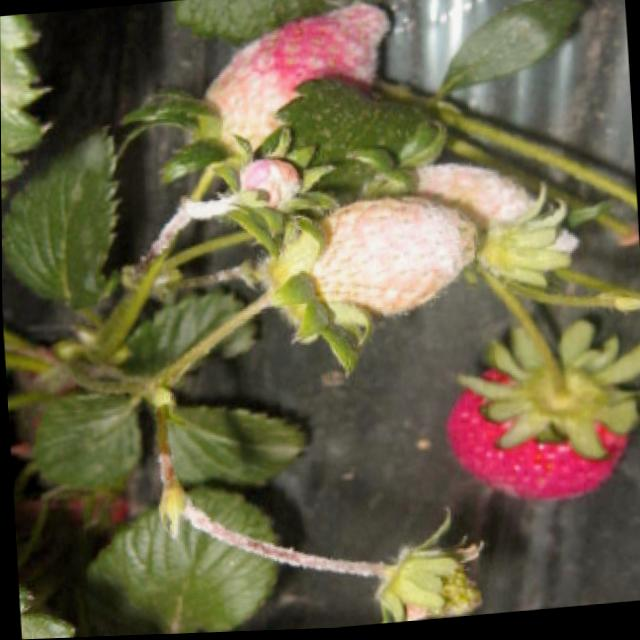Powdery Mildew Fruit: (191, 1, 393, 212), (263, 196, 481, 341), (340, 167, 578, 276)
